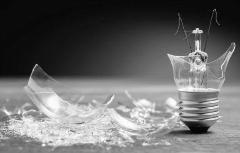lightbulb: (167, 9, 236, 134), (188, 28, 208, 90)
